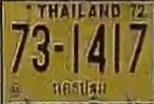1: (73, 24, 78, 72), (114, 23, 119, 71)
3: (31, 24, 49, 71)
4: (87, 23, 104, 72)
7: (129, 23, 146, 71), (12, 23, 28, 71)
NPT: (49, 77, 112, 102)
